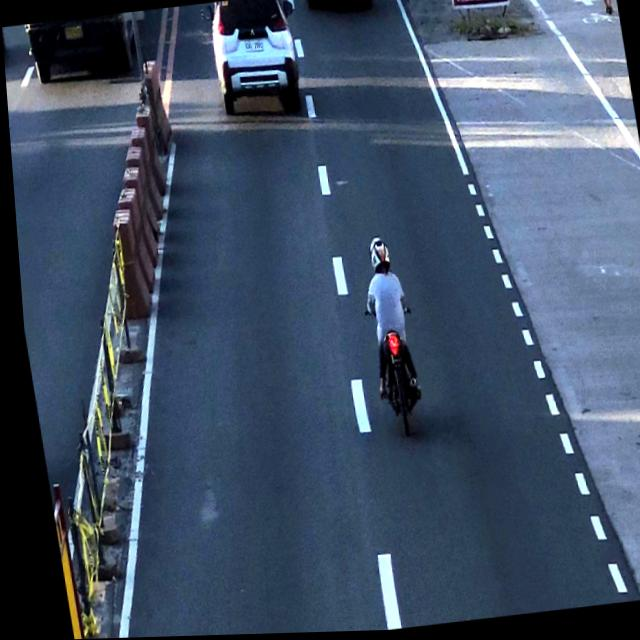Car: (206, 0, 303, 121)
License-Plate: (242, 38, 265, 57)
Motorcycle: (347, 229, 425, 453)
